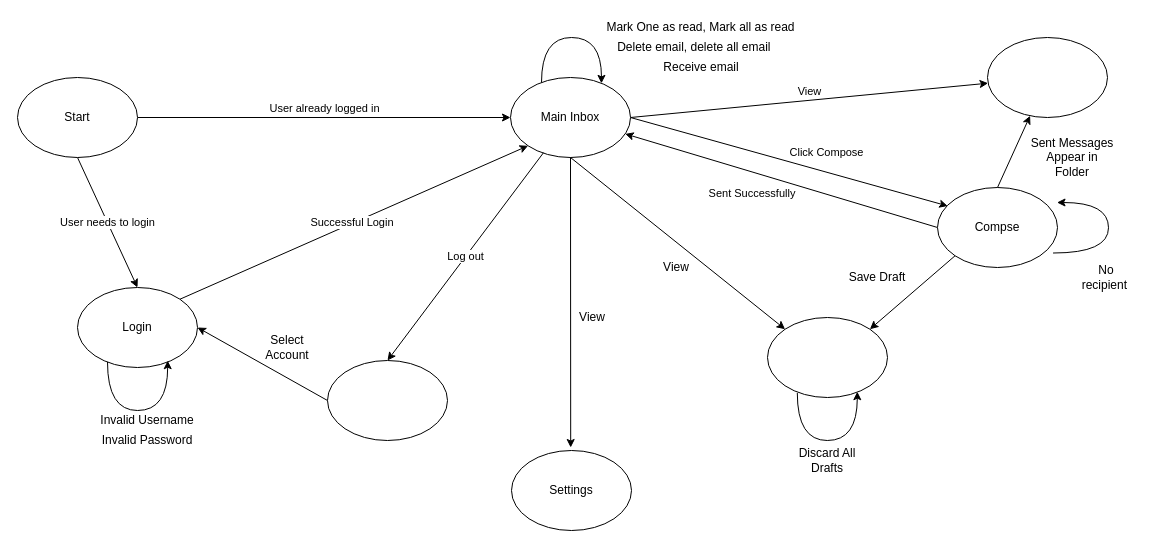
Some shapes in this 1155 by 548 pixel diagram are drawn without their labels. Here are the shapes that lost their labels. From the top down, the centre of each, then its label:
(x=1047, y=77): Sent Folder
(x=827, y=357): Draft Folder
(x=387, y=400): Choose Account Page
